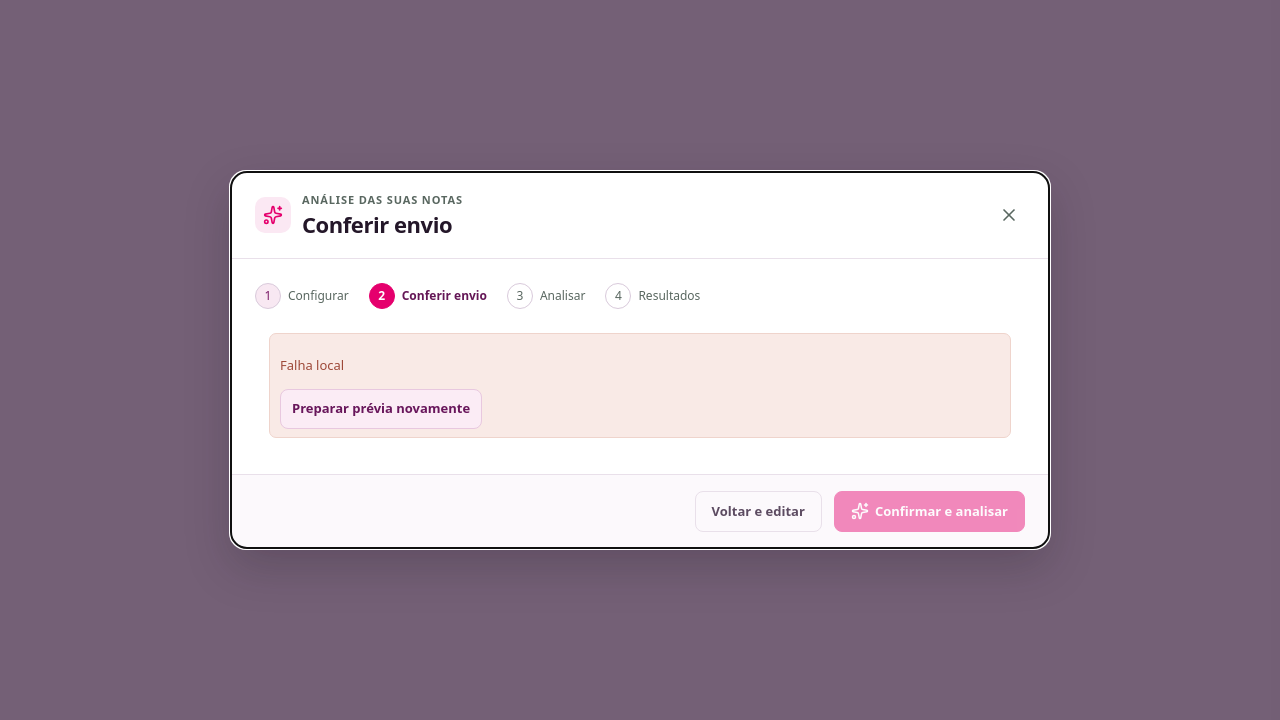
it: analysis decisions and recovery › recovers a failed preview with a fresh preview before enabling confirmation
Expected: the text "Falha local" is shown, [280, 356, 344, 374]
Expected: the button "Confirmar e analisar" is disabled, [834, 491, 1025, 532]
Click the button "Preparar prévia novamente" at (381, 409), box [280, 389, 482, 429]
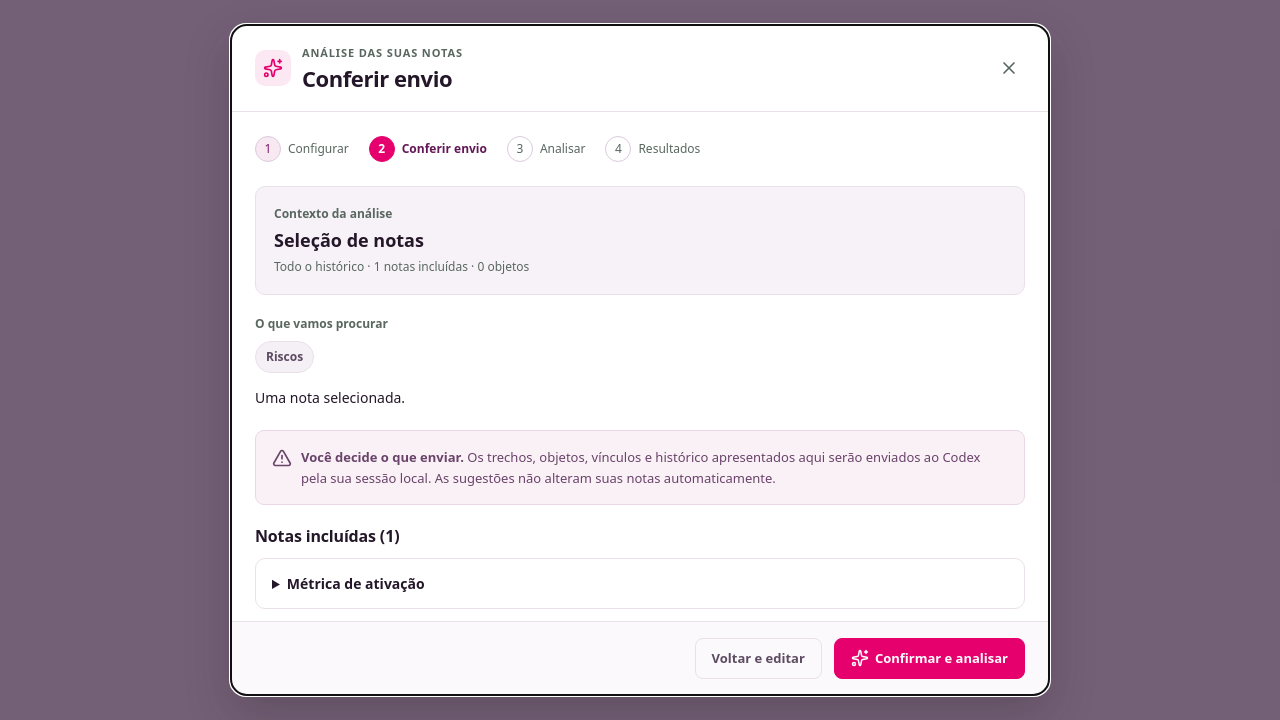
Expected: the text "Uma nota selecionada." is shown, [255, 388, 405, 408]
Expected: the button "Confirmar e analisar" is enabled, [834, 638, 1025, 679]
